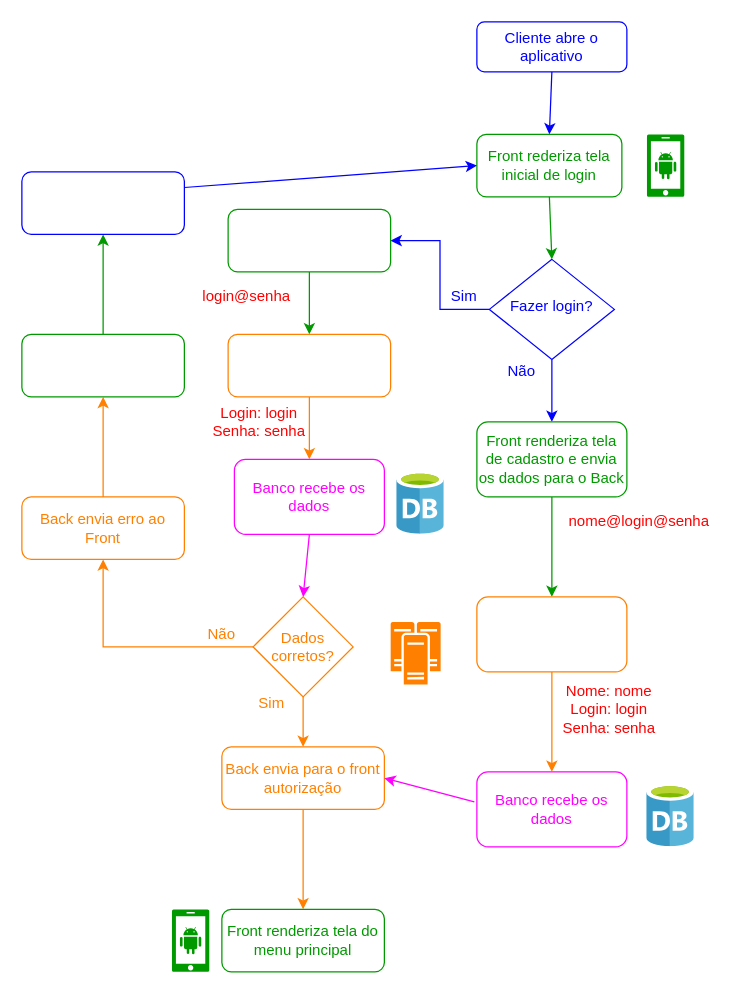
The diagram is 731 pixels wide and 994 high, and some of its shapes have lost their labels. Each missing label, with the centre of its shape:
"Back recebe os dados, valida a entrada e envia para o Banco" goes at [551,634].
"Back recebe os dados, valida com o banco" goes at [309,365].
"Cliente recebe erro" goes at [102,202].
"Front do cliente envia ao back dados para login" goes at [309,240].
"Front envia erro ao cliente" goes at [102,365].
